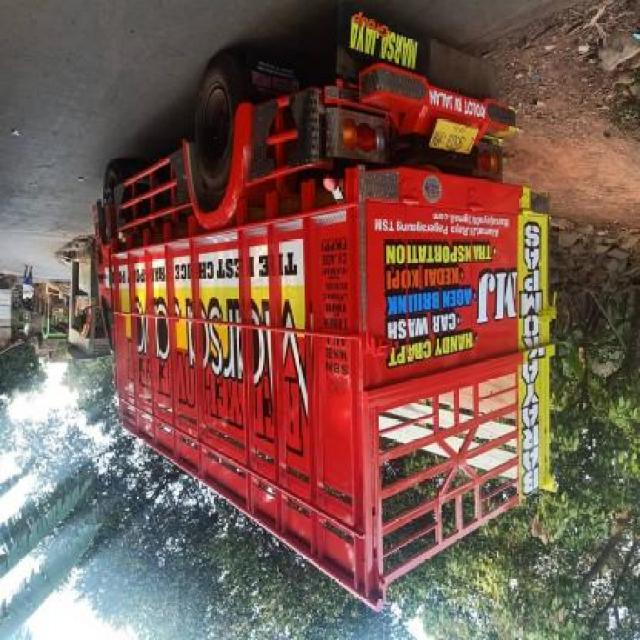truck: (95, 11, 561, 616)
